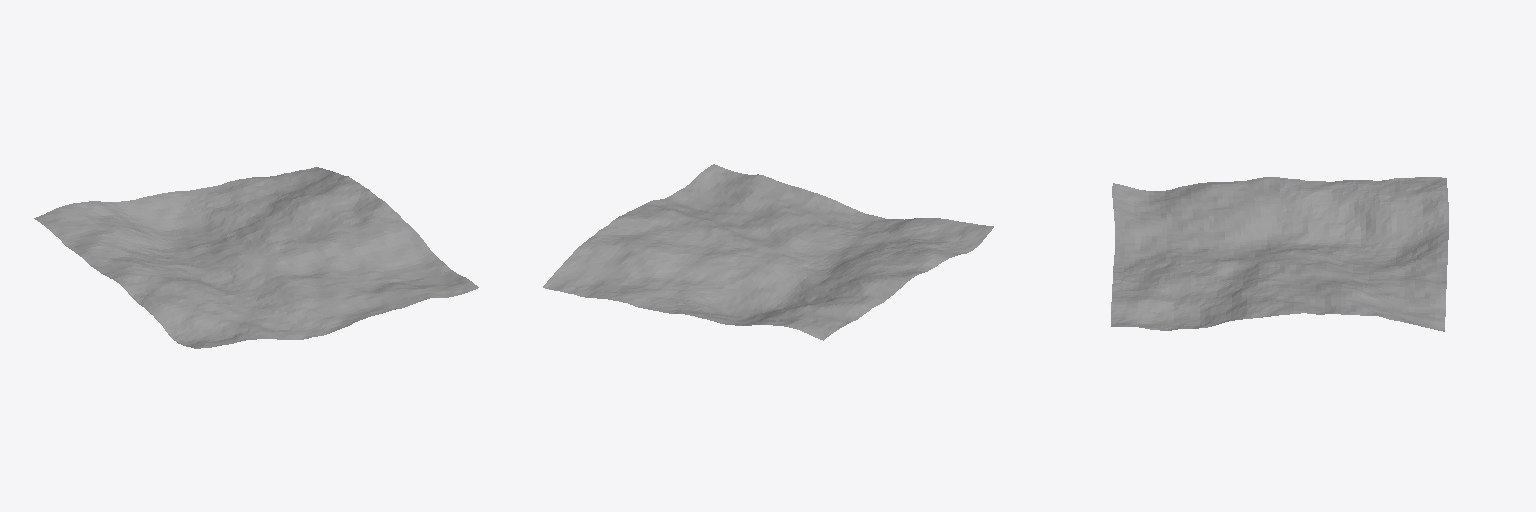
File: terrain_mud.obj
3 views of the same model, side by side, from view 1: azimuth 30°, elevation 25°; view 2: azimuth 150°, elevation 25°; view 3: azimuth 270°, elevation 25° (orthographic).
Visible parts, largest first — view 1: Ground_Plane; view 2: Ground_Plane; view 3: Ground_Plane.
Boxes of the visible parts, <box> form: Ground_Plane: <box>34,167,478,348</box>; Ground_Plane: <box>543,164,993,340</box>; Ground_Plane: <box>1111,177,1448,331</box>.
Size of the model in its own units: 27.73 by 2.86 by 28.36.